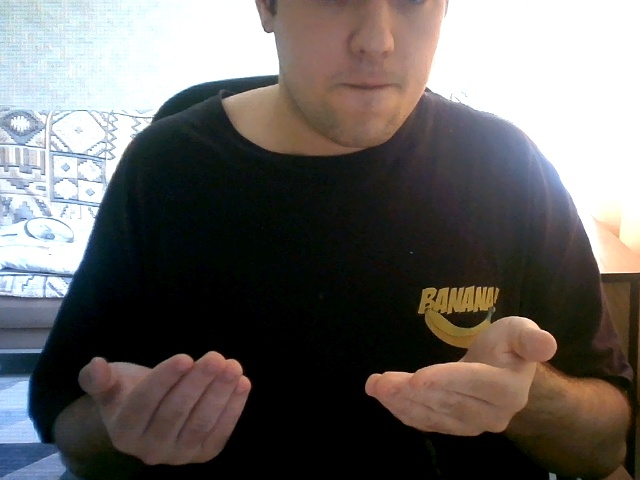hello: (58, 280, 572, 474)
